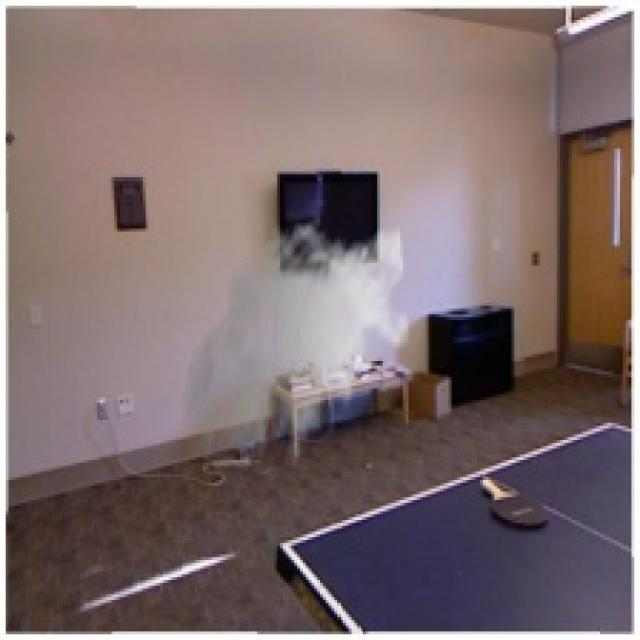smoke: (180, 211, 411, 480)
